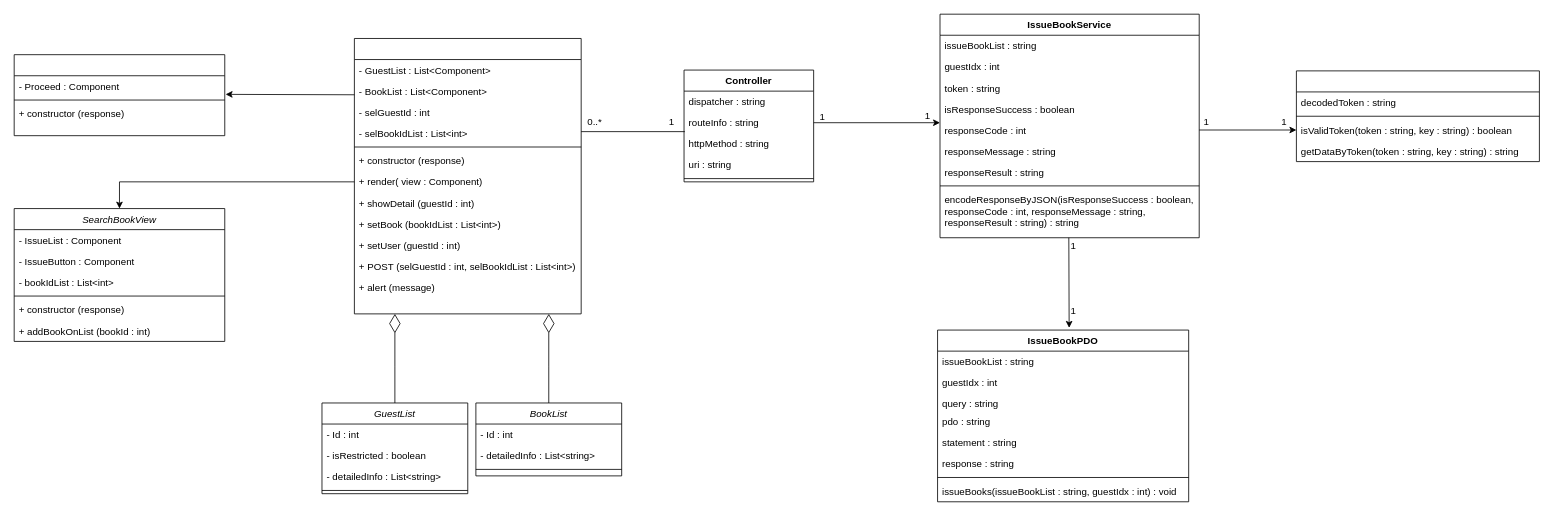
Some shapes in this 1554 by 518 pixel diagram are drawn without their labels. Here are the shapes that lost their labels. From the top down, the box of each, then its label:
(13, 54, 225, 136): SearchGuestView
(1296, 70, 1539, 162): Authenticator
(354, 38, 581, 314): View Controller
